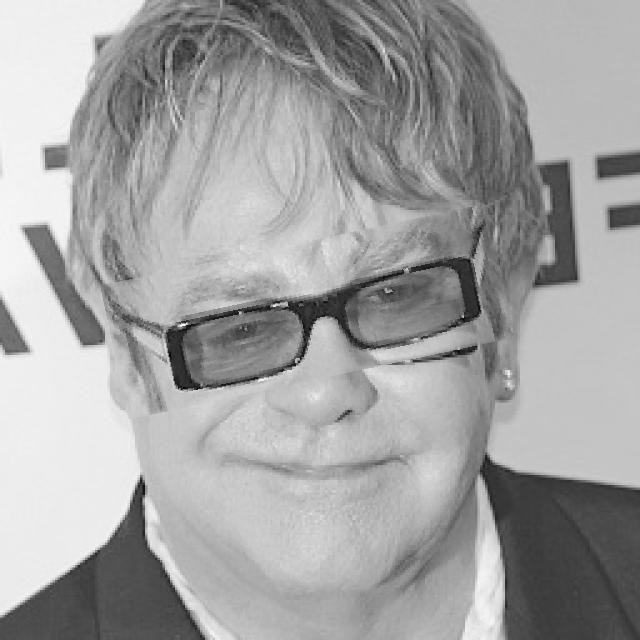glasses: (105, 223, 510, 400)
